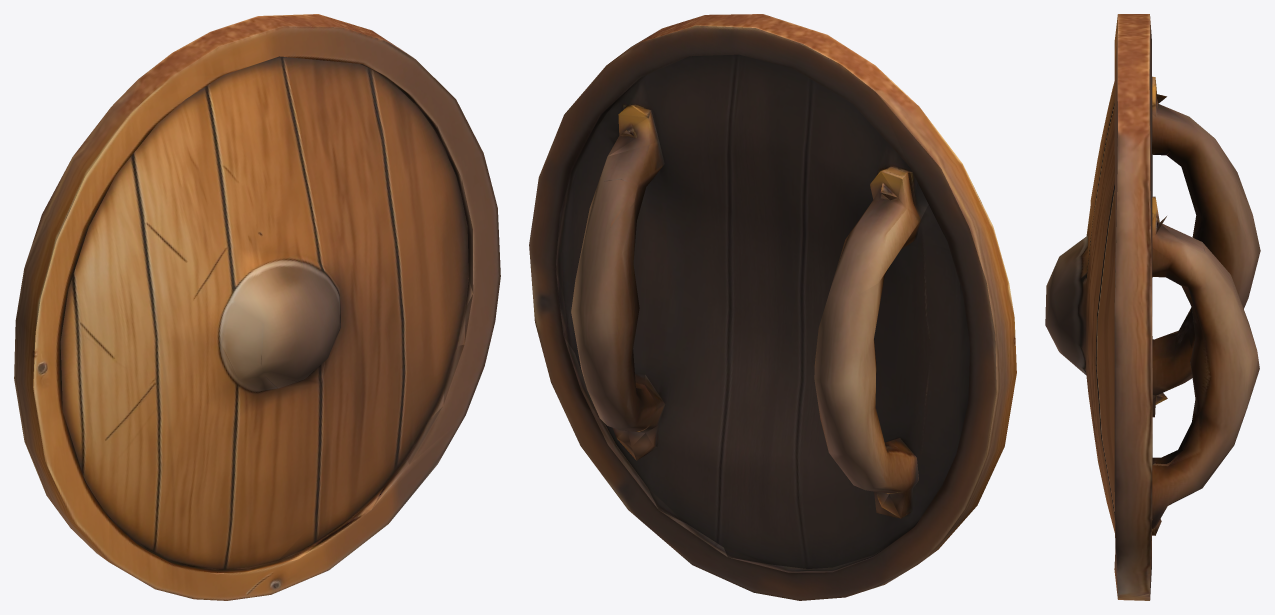
File: wpn_shield3.glb
The picture shows the model from 3 angles, left to right: view 1: azimuth 30°, elevation 25°; view 2: azimuth 150°, elevation 25°; view 3: azimuth 270°, elevation 25°; orthographic projection. The views are drawn at different scales.
Size of the model in its own units: 1.66 by 1.91 by 0.6856.
1 material, 1 textured.
